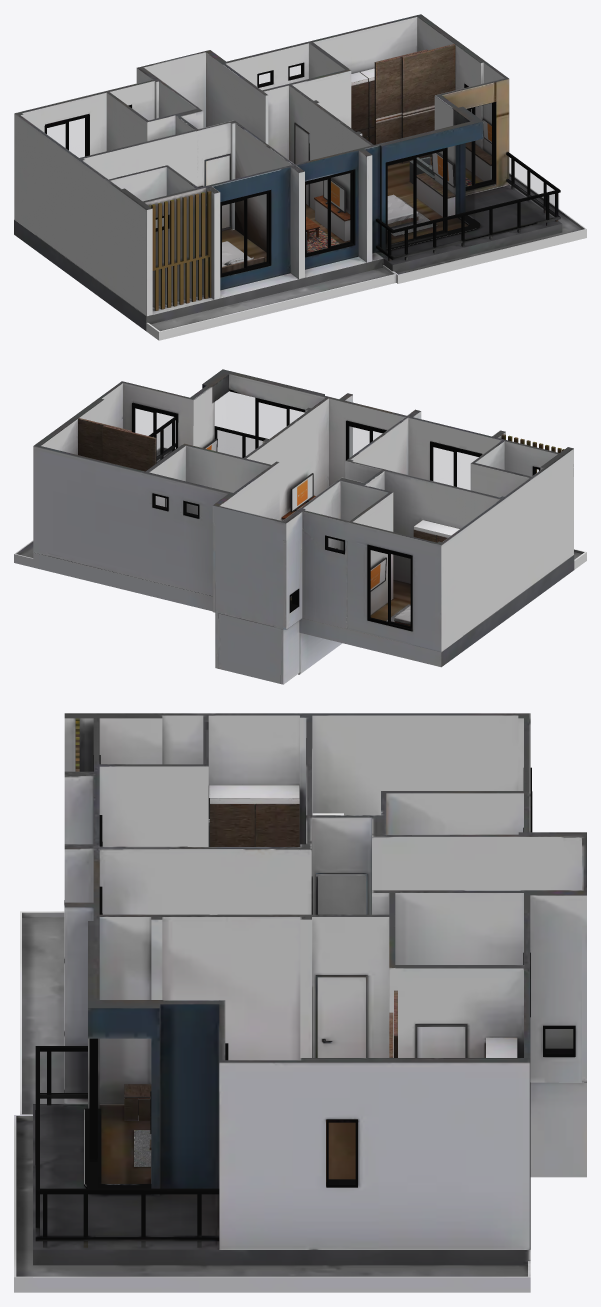
File: SH2509_2ndFloorBaked_v02.gltf
The picture shows the model from 3 angles, top to bottom: view 1: azimuth 30°, elevation 25°; view 2: azimuth 150°, elevation 25°; view 3: azimuth 270°, elevation 25°; orthographic projection. The views are drawn at different scales.
Parts seen in each view (by area): view 1: Floor2.005, Floor2, Floor2.003, Floor2.001, Floor2.002, Floor2.004; view 2: Floor2.005, Floor2, Floor2.003, Floor2.001, Floor2.002; view 3: Floor2.005, Floor2, Floor2.003, Floor2.001.
Boxes of the visible parts, x1,y1,x2,y2 form: Floor2.005: (14,14,509,316); Floor2: (14,62,586,340); Floor2.003: (47,66,558,273); Floor2.001: (265,44,491,261); Floor2.002: (198,118,491,252); Floor2.004: (222,156,434,273); Floor2.005: (33,369,573,684); Floor2: (14,397,586,667); Floor2.003: (135,392,539,625); Floor2.001: (78,418,459,549); Floor2.002: (203,438,410,621); Floor2.005: (64,713,586,1249); Floor2: (14,718,575,1292); Floor2.003: (38,1029,572,1235); Floor2.001: (124,785,517,1183).
Bounding box in the file's own units: 9.76 × 3.58 × 6.45.
Materials: 6 (6 with a texture image).
